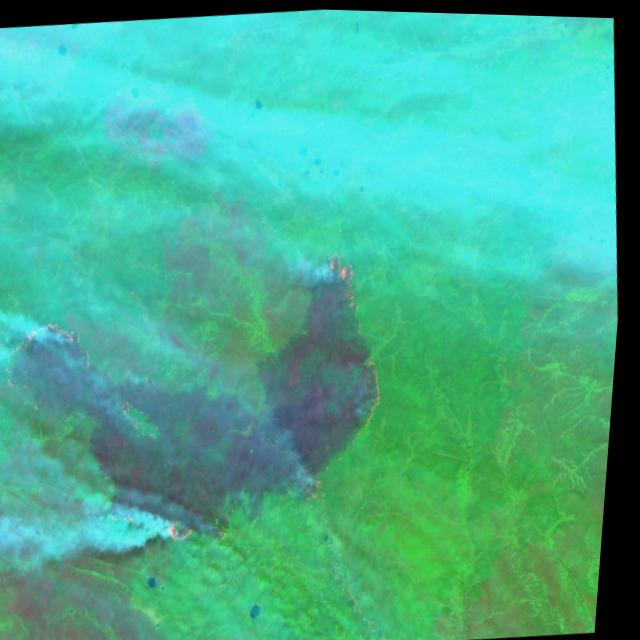fire: (281, 237, 407, 506), (164, 505, 208, 551)
